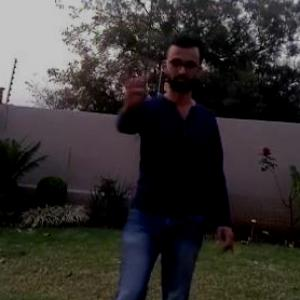takeoff-hand: (117, 59, 152, 108)
